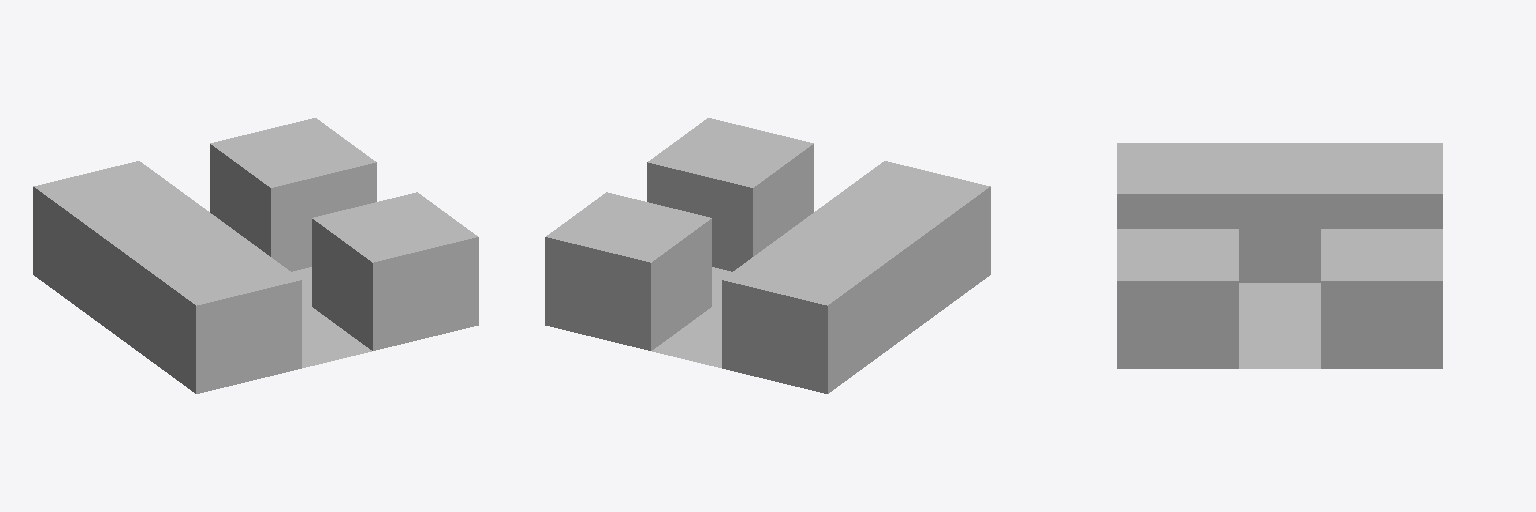
The model's file is NormalMaze.obj.
The picture shows the model from 3 angles: view 1: azimuth 30°, elevation 25°; view 2: azimuth 150°, elevation 25°; view 3: azimuth 270°, elevation 25°; orthographic projection.
Visible parts, largest first — view 1: Plane; view 2: Plane; view 3: Plane.
Boxes of the visible parts, <box> form: Plane: <box>33,118,478,393</box>; Plane: <box>545,118,990,393</box>; Plane: <box>1117,143,1442,368</box>.
Bounding box in the file's own units: 20 × 6 × 20.